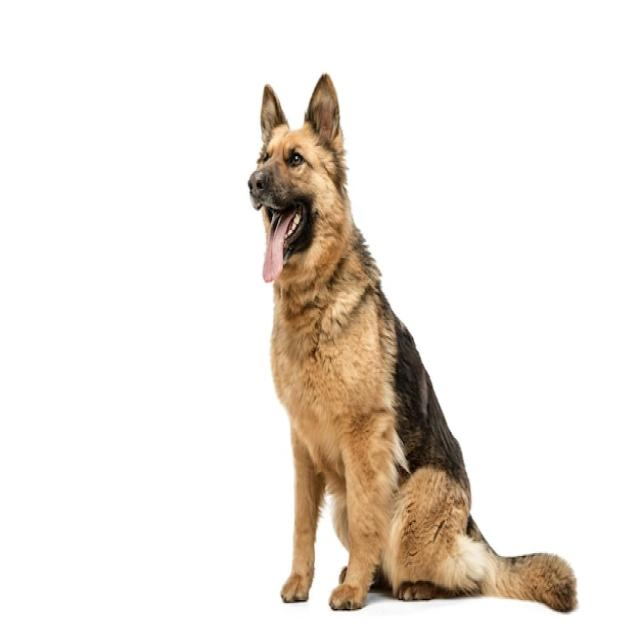Dog: (247, 72, 578, 612)
